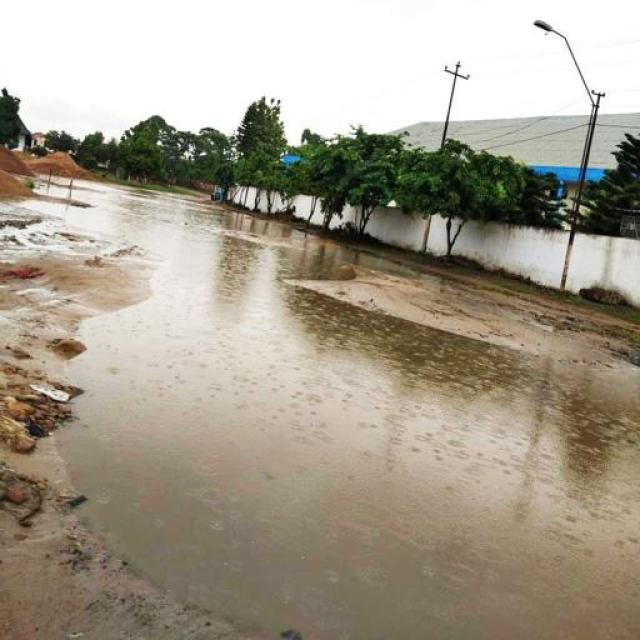puddle: (92, 329, 632, 639), (149, 243, 279, 412), (84, 178, 228, 272)
